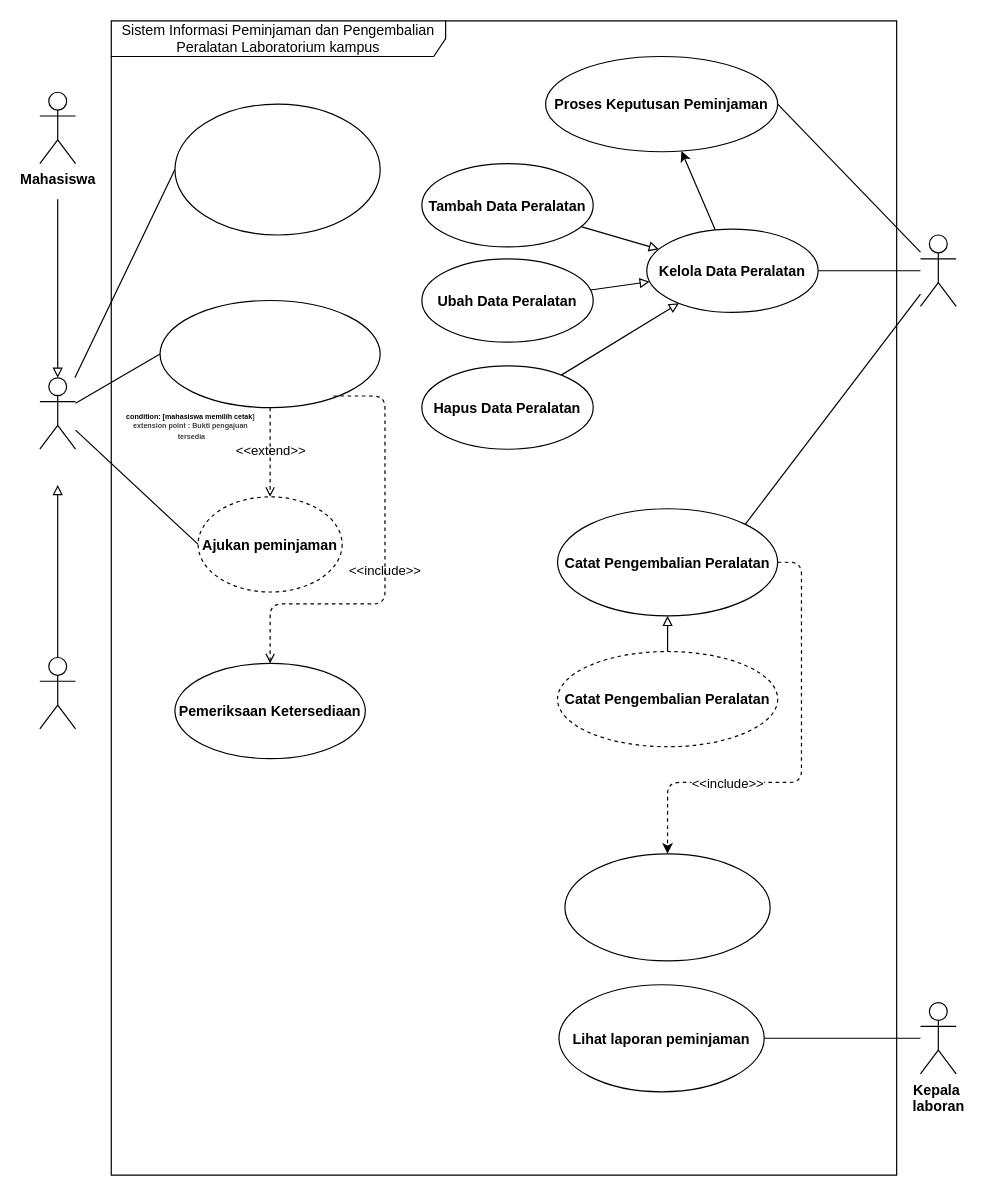
This 989x1196 diagram has some shape labels left out. The shapes that lost their labels are listed below. From the top down, each one's box as (x1, y1, x2, y2) in pixels, then its label:
(174, 103, 380, 235): Lihat ketersediaan peralatan
(919, 234, 956, 306): Petugas Laboran
(159, 299, 380, 408): Cetak bukti Pengajuan
(39, 377, 76, 449): Peminjam
(39, 656, 76, 729): Dosen
(564, 853, 770, 961): Periksa Kondisi Peralatan
